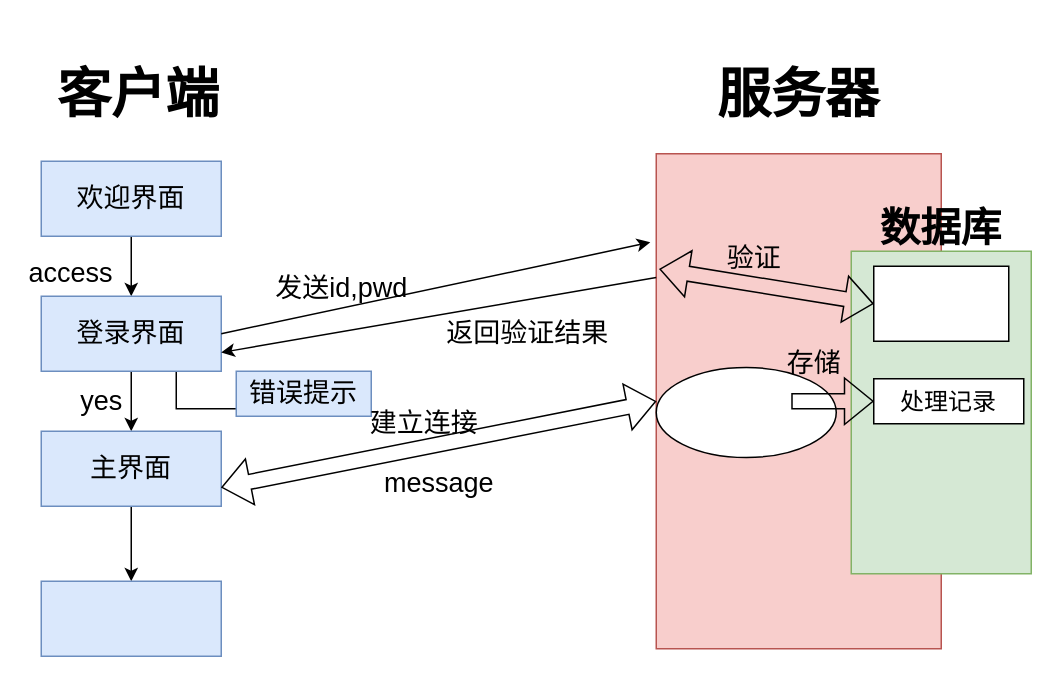
The diagram is 1064 pixels wide and 683 high, and some of its shapes have lost their labels. The shapes that lost their labels are listed below. From the top down, each one's centre as x and y in pixels, then its label:
the point at 940,303: 用户信息表
the point at 745,412: 处理请求
the point at 130,618: 退出
